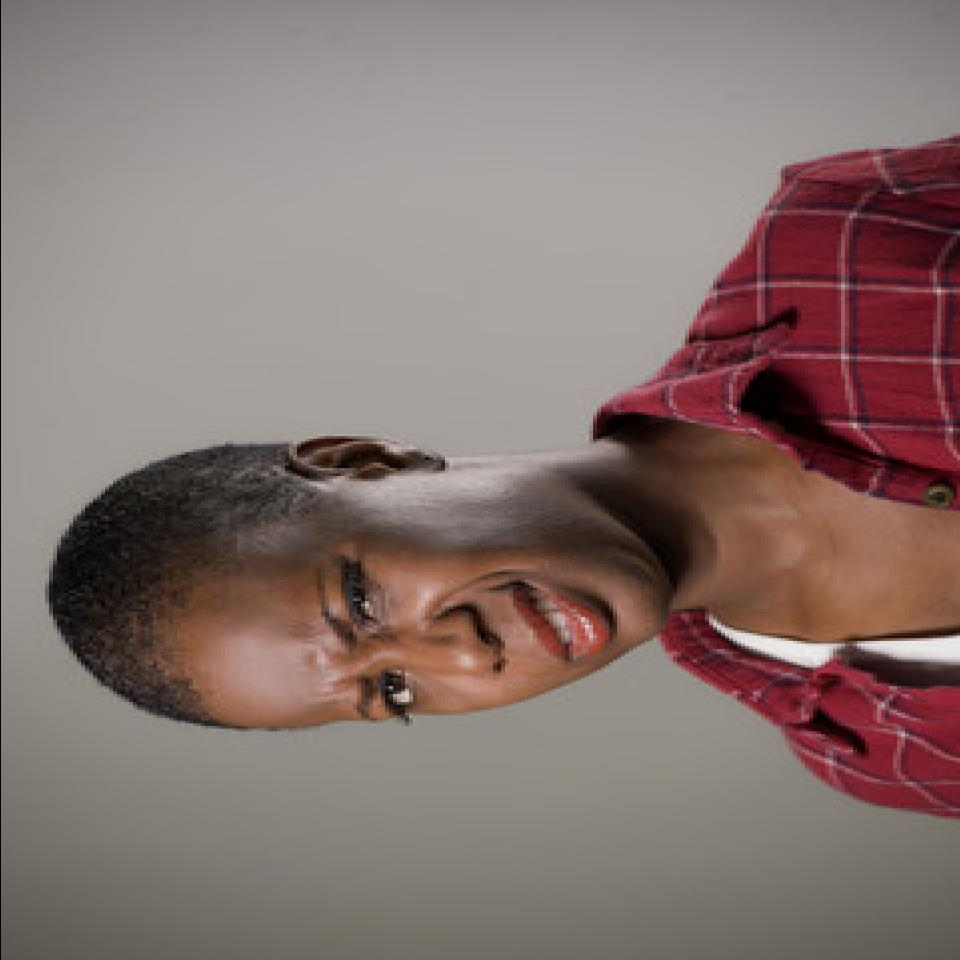Disgust: (132, 467, 670, 733)
